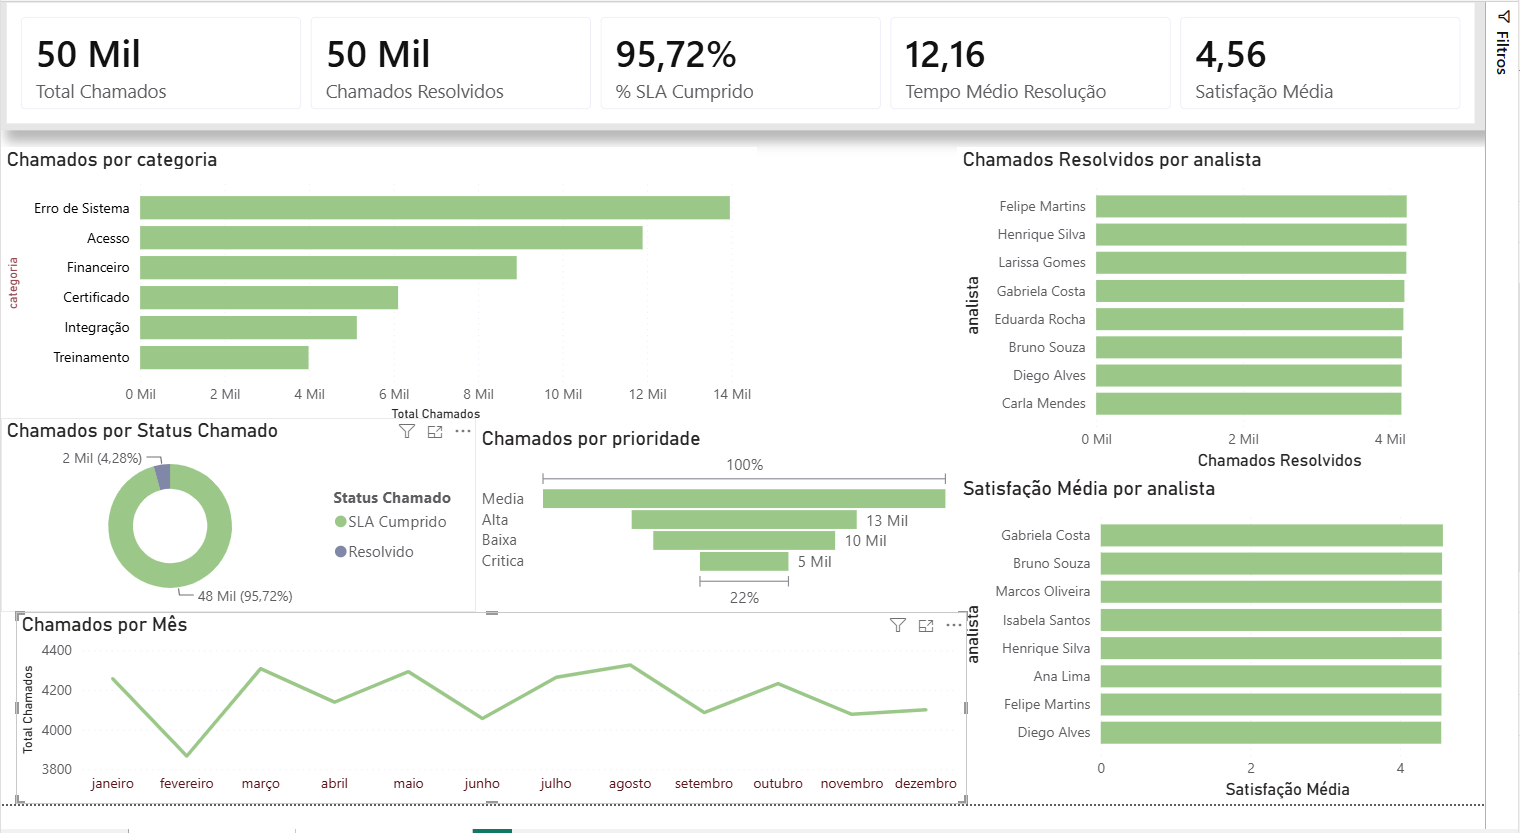

The dashboard page shown, as its layout file describes it:
{"tool":"powerbi","page":{"name":"Visão Geral do Suporte","canvas":[1280,720],"ordinal":0},"visuals":[{"type":"cardVisual","fields":{"Data":["chamados_suporte.Total Chamados","chamados_suporte.Chamados Resolvidos","chamados_suporte.% SLA Cumprido","chamados_suporte.Tempo Médio Resolução","chamados_suporte.Satisfação Média"]},"box":[0,24.2,1280,114.7],"z":0},{"type":"barChart","title":"Chamados por categoria","fields":{"Y":["chamados_suporte.Total Chamados"],"Category":["chamados_suporte.categoria"]},"box":[0,153.5,652.1,240.6],"z":1000},{"type":"lineChart","title":"Chamados por Mês","fields":{"Category":["chamados_suporte.data_abertura.Variation.Hierarquia de datas.Mês"],"Y":["chamados_suporte.Total Chamados"]},"box":[12.9,554.6,820.3,165.6],"z":2000},{"type":"donutChart","title":"Chamados por Status Chamado","fields":{"Category":["chamados_suporte.Status Chamado"],"Y":["chamados_suporte.Total Chamados"]},"box":[0,387.3,409.7,167.3],"z":3000},{"type":"funnel","title":"Chamados por prioridade","fields":{"Category":["chamados_suporte.prioridade"],"Y":["chamados_suporte.Total Chamados"]},"box":[409.7,394.2,414.9,160.4],"z":4000},{"type":"clusteredBarChart","fields":{"Category":["chamados_suporte.analista"],"Y":["chamados_suporte.Chamados Resolvidos"]},"box":[824.8,153.8,455.5,283.1],"z":5000},{"type":"barChart","fields":{"Category":["chamados_suporte.analista"],"Y":["chamados_suporte.Satisfação Média"]},"box":[824.8,436.9,455.5,283.1],"z":6000}]}

Visuals, with their boxes on the page's 1280x720 design canvas (x1, y1, x2, y2). These are canvas units, not pixel positions in the 1520x833 screenshot, which may show the page scaled, cropped or inside an application window:
cardVisual - chamados_suporte.Total Chamados x chamados_suporte.Chamados Resolvidos: {"x1": 0, "y1": 24, "x2": 1280, "y2": 139}
"Chamados por categoria" barChart: {"x1": 0, "y1": 154, "x2": 652, "y2": 394}
"Chamados por Mês" lineChart: {"x1": 13, "y1": 555, "x2": 833, "y2": 720}
"Chamados por Status Chamado" donutChart: {"x1": 0, "y1": 387, "x2": 410, "y2": 555}
"Chamados por prioridade" funnel: {"x1": 410, "y1": 394, "x2": 825, "y2": 555}
clusteredBarChart - chamados_suporte.analista x chamados_suporte.Chamados Resolvidos: {"x1": 825, "y1": 154, "x2": 1280, "y2": 437}
barChart - chamados_suporte.analista x chamados_suporte.Satisfação Média: {"x1": 825, "y1": 437, "x2": 1280, "y2": 720}
